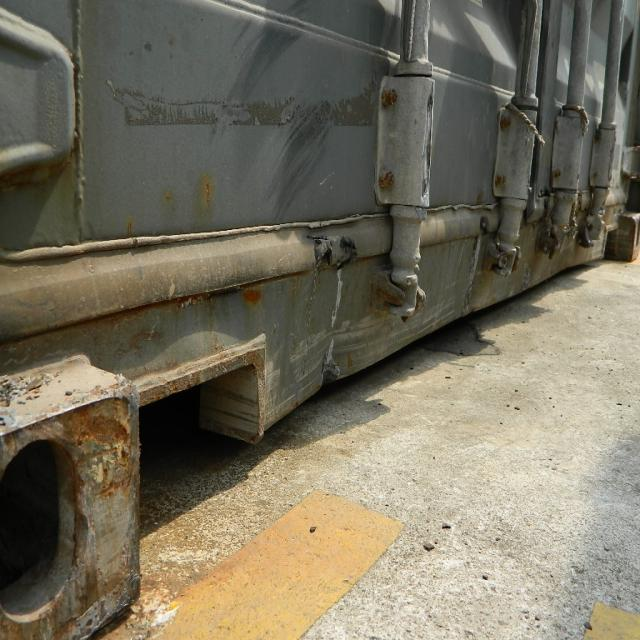dent: (242, 252, 501, 443), (220, 1, 353, 220)
